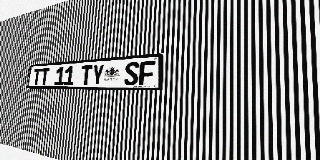plate: (27, 53, 164, 91)
